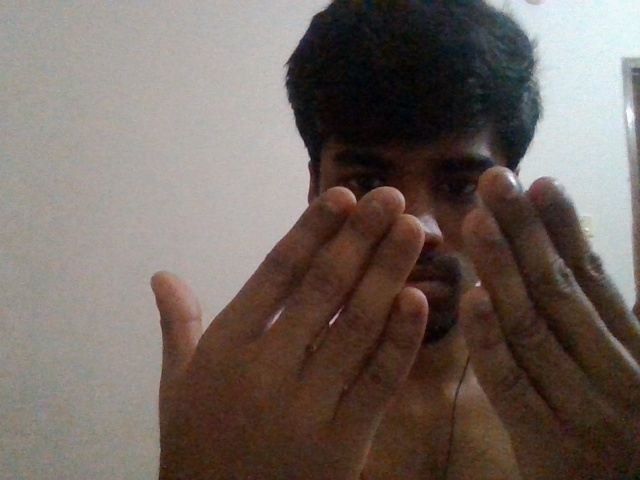Thanks: (140, 167, 640, 480)
